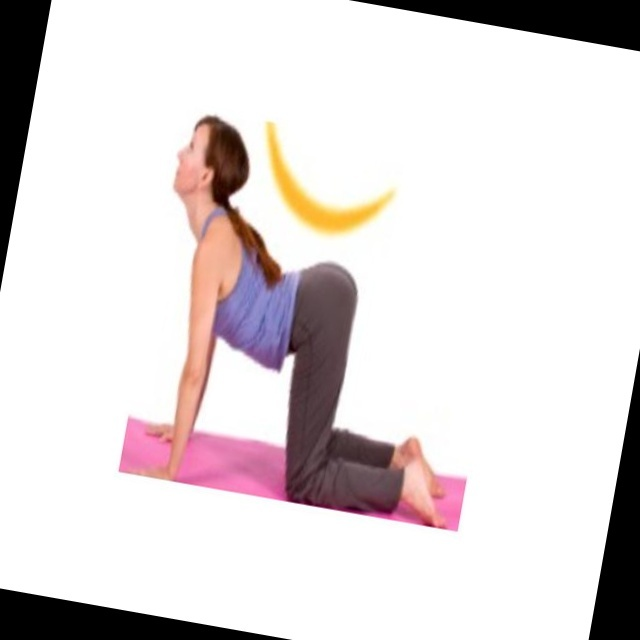Cow_Pose: (126, 117, 452, 529)
